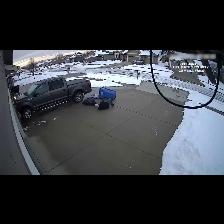person: (96, 99, 113, 110)
